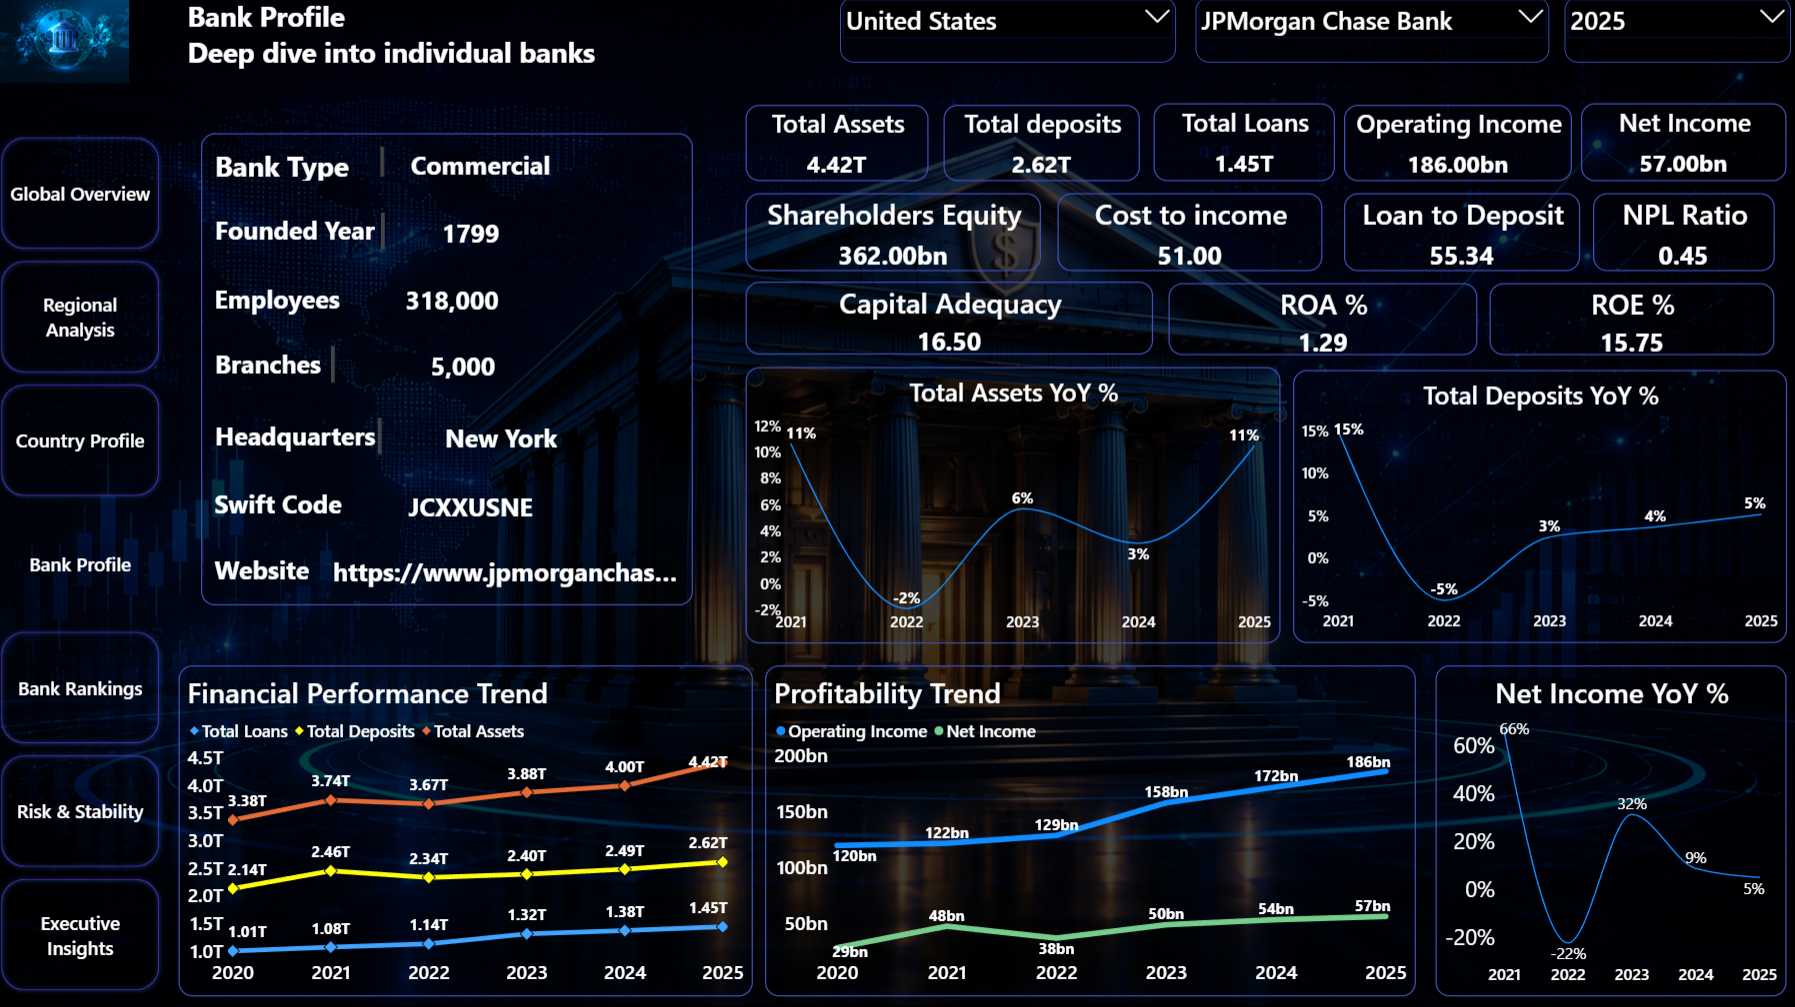

Layout of this report page (visuals, bound fields, positions):
{"tool":"powerbi","page":{"name":"Bank Profile","canvas":[3840,2160],"ordinal":3},"visuals":[{"type":"slicer","fields":{"Values":["public gbip_bank_analysis.bank_name"]},"box":[2590.1,0,755.6,140.9],"z":1000},{"type":"slicer","fields":{"Values":["DimYear.Year"]},"box":[3355.3,0,441.8,140.9],"z":2000},{"type":"slicer","fields":{"Values":["DimCountry.country_name"]},"box":[1869.8,0,717.2,140.9],"z":3000},{"type":"textbox","box":[406,0,1230.8,202.5],"z":5000},{"type":"cardVisual","fields":{"Data":["Bank_count.Founded Year"]},"box":[909.3,461,203.3,83.3],"z":6000},{"type":"cardVisual","fields":{"Data":["Bank_count.Employees"]},"box":[816.4,608.3,310,76.7],"z":7000},{"type":"cardVisual","fields":{"Data":["Bank_count.Branches"]},"box":[896.5,739.6,196.7,93.3],"z":8000},{"type":"cardVisual","fields":{"Data":["public gbip_bank_analysis.Headquarters"]},"box":[826,893.3,500,96.7],"z":9000},{"type":"cardVisual","fields":{"Data":["Bank_count.Official Website"]},"box":[699.6,1192.6,783.3,70],"z":10000},{"type":"cardVisual","title":"Total Assets","fields":{"Data":["Sum(public gbip_bank_analysis.total_assets)"]},"box":[1598.6,228.4,320,163.3],"z":11000},{"type":"cardVisual","title":"Total deposits","fields":{"Data":["Sum(public gbip_bank_analysis.total_deposits)"]},"box":[1972,228.4,370,163.3],"z":12000},{"type":"cardVisual","title":"Total Loans","fields":{"Data":["Sum(public gbip_bank_analysis.total_loans)"]},"box":[2414.2,228.4,352.2,166.5],"z":13000},{"type":"cardVisual","title":"Shareholders Equity","fields":{"Data":["Avg(public gbip_bank_analysis.shareholders_equity)"]},"box":[1597.6,419.4,630.7,166.5],"z":14000},{"type":"cardVisual","title":"Net Income","fields":{"Data":["Sum(public gbip_bank_analysis.net_income)"]},"box":[3382.1,228.4,387.4,166.5],"z":15000},{"type":"cardVisual","title":"ROE %","fields":{"Data":["Sum(public gbip_bank_analysis.roe_percent)"]},"box":[3185.6,611.5,608.3,153.7],"z":16000},{"type":"cardVisual","title":"ROA %","fields":{"Data":["Sum(public gbip_bank_analysis.roa_percent)"]},"box":[2500.5,611.5,659.5,153.7],"z":17000},{"type":"cardVisual","title":"Operating Income","fields":{"Data":["Sum(public gbip_bank_analysis.operating_income)"]},"box":[2827,227.3,486.6,163.3],"z":18000},{"type":"cardVisual","title":"NPL Ratio","fields":{"Data":["Bank_count.NPL Ratio"]},"box":[3406.5,419.4,387.9,166.7],"z":19000},{"type":"cardVisual","title":"Capital Adequacy","fields":{"Data":["Bank_count.Capital Adequacy"]},"box":[1598.6,609,870,155.9],"z":20000},{"type":"cardVisual","title":"Cost to income","fields":{"Data":["Bank_count.Cost to Income"]},"box":[2263.6,419.4,565.5,166.7],"z":21000},{"type":"cardVisual","title":"Loan to Deposit ","fields":{"Data":["Bank_count.Loan to Deposit"]},"box":[2875.1,419.4,503.9,166.7],"z":22000},{"type":"textbox","box":[464.2,461,363.3,83.3],"z":23000},{"type":"textbox","box":[464.2,608.3,290,83.3],"z":24000},{"type":"textbox","box":[464.2,746,256.7,83.3],"z":25000},{"type":"textbox","box":[464.2,899.7,356.7,83.3],"z":26000},{"type":"textbox","box":[464.2,1187.8,256.7,83.3],"z":27000},{"type":"lineChart","title":"Financial Performance Trend","fields":{"Category":["public gbip_bank_analysis.fiscal_year"],"Y":["Sum(public gbip_bank_analysis.total_loans)","Sum(public gbip_bank_analysis.total_deposits)","Sum(public gbip_bank_analysis.total_assets)"]},"box":[387.9,1381.1,1225.2,779.4],"z":28000},{"type":"lineChart","title":"Profitability Trend","fields":{"Category":["public gbip_bank_analysis.fiscal_year"],"Y":["Sum(public gbip_bank_analysis.operating_income)","Sum(public gbip_bank_analysis.net_income)"]},"box":[1639.2,1427.9,1388.4,732.2],"z":29000},{"type":"lineChart","title":"Total Assets YoY % ","fields":{"Category":["DimYear.Year"],"Y":["Bank_count.Total Assets YoY %"]},"box":[1598.6,790.2,1141.9,590.9],"z":30000},{"type":"lineChart","title":"Total Deposits YoY % ","fields":{"Category":["DimYear.Year"],"Y":["Bank_count.Total Deposits YoY %"]},"box":[2765.8,797.5,1054.9,583.6],"z":31000},{"type":"lineChart","title":"Net Income YoY % ","fields":{"Category":["DimYear.Year"],"Y":["Bank_count.Net Income YoY %"]},"box":[3070.4,1427.9,749.2,733.2],"z":32000},{"type":"textbox","box":[464.2,1046.9,291.3,121.7],"z":33000},{"type":"cardVisual","fields":{"Data":["Min(public gbip_bank_analysis.swift_code)"]},"box":[816.4,1056.5,389.2,63.3],"z":34000},{"type":"cardVisual","fields":{"Data":["Min(public gbip_bank_analysis.bank_type)"]},"box":[819.6,323.4,425.8,70.4],"z":35000},{"type":"textbox","box":[464.2,320.2,361.8,70.4],"z":36000},{"type":"shape","box":[355.2,290,1207.1,1011.4],"z":37000},{"type":"pageNavigator","box":[0,290,355.2,1845.1],"z":37001},{"type":"image","box":[0,0,286.4,184.9],"z":37002}]}

Visuals, with their boxes in screenshot pixels (x1, y1, x2, y2), scaled from the page's 3840x2160 canvas onto the 1795x1007 screenshot:
slicer - public gbip_bank_analysis.bank_name: (1211, 0, 1564, 66)
slicer - DimYear.Year: (1568, 0, 1775, 66)
slicer - DimCountry.country_name: (874, 0, 1209, 66)
textbox: (190, 0, 765, 94)
cardVisual - Bank_count.Founded Year: (425, 215, 520, 254)
cardVisual - Bank_count.Employees: (382, 284, 527, 319)
cardVisual - Bank_count.Branches: (419, 345, 511, 388)
cardVisual - public gbip_bank_analysis.Headquarters: (386, 416, 620, 462)
cardVisual - Bank_count.Official Website: (327, 556, 693, 589)
"Total Assets" cardVisual: (747, 106, 897, 183)
"Total deposits" cardVisual: (922, 106, 1095, 183)
"Total Loans" cardVisual: (1129, 106, 1293, 184)
"Shareholders Equity" cardVisual: (747, 196, 1042, 273)
"Net Income" cardVisual: (1581, 106, 1762, 184)
"ROE %" cardVisual: (1489, 285, 1773, 357)
"ROA %" cardVisual: (1169, 285, 1477, 357)
"Operating Income" cardVisual: (1321, 106, 1549, 182)
"NPL Ratio" cardVisual: (1592, 196, 1774, 273)
"Capital Adequacy" cardVisual: (747, 284, 1154, 357)
"Cost to income" cardVisual: (1058, 196, 1322, 273)
"Loan to Deposit " cardVisual: (1344, 196, 1580, 273)
textbox: (217, 215, 387, 254)
textbox: (217, 284, 353, 322)
textbox: (217, 348, 337, 387)
textbox: (217, 419, 384, 458)
textbox: (217, 554, 337, 593)
"Financial Performance Trend" lineChart: (181, 644, 754, 1006)
"Profitability Trend" lineChart: (766, 666, 1415, 1006)
"Total Assets YoY % " lineChart: (747, 368, 1281, 644)
"Total Deposits YoY % " lineChart: (1293, 372, 1786, 644)
"Net Income YoY % " lineChart: (1435, 666, 1785, 1006)
textbox: (217, 488, 353, 545)
cardVisual - Min(public gbip_bank_analysis.swift_code): (382, 493, 564, 522)
cardVisual - Min(public gbip_bank_analysis.bank_type): (383, 151, 582, 184)
textbox: (217, 149, 386, 182)
shape: (166, 135, 730, 607)
pageNavigator: (0, 135, 166, 995)
image: (0, 0, 134, 86)
